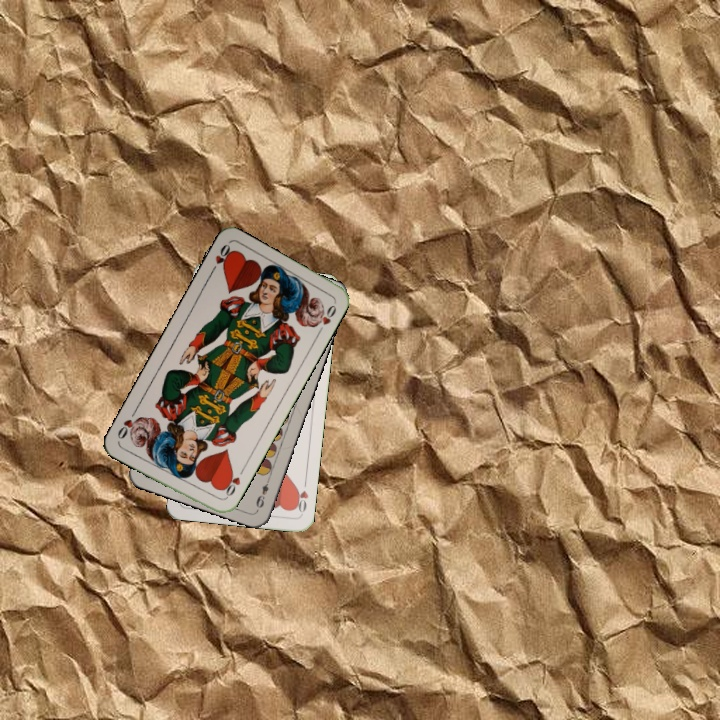E9: (252, 473, 273, 511)
HO: (218, 465, 247, 502), (206, 240, 235, 277), (291, 476, 311, 517)
